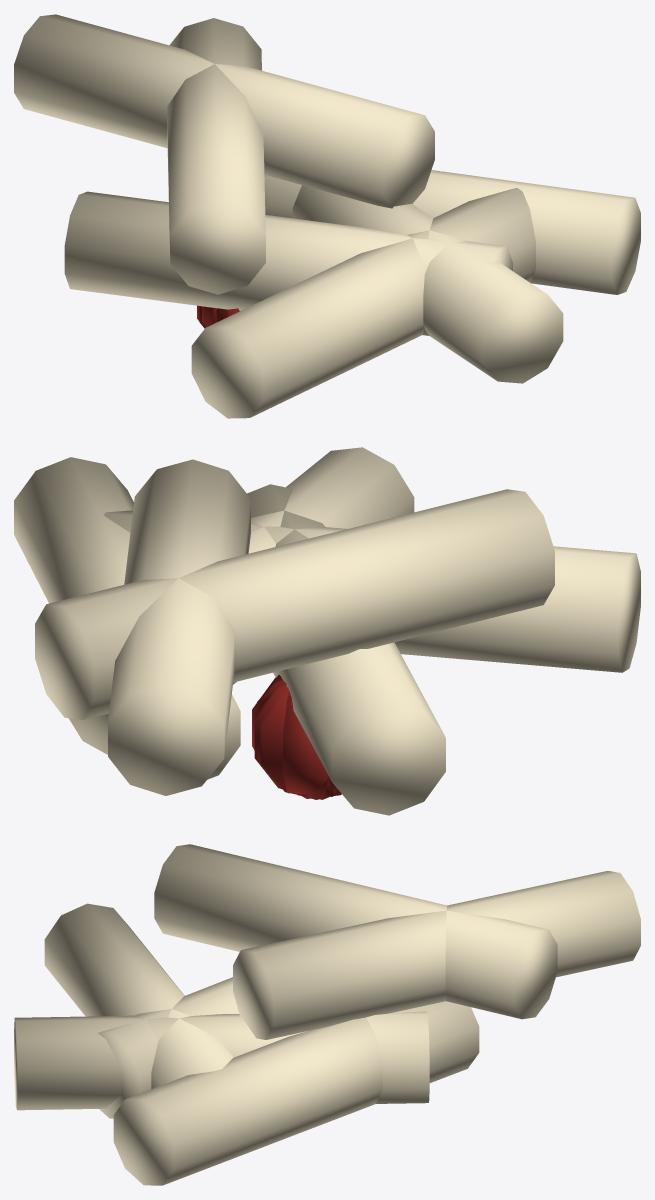
Rendered from scroll_pile.glb.
3 views of the same model, one above another, from view 1: azimuth 30°, elevation 25°; view 2: azimuth 150°, elevation 25°; view 3: azimuth 270°, elevation 25° (orthographic). The views are drawn at different scales.
Parts seen in each view (by area): view 1: scroll_pile; view 2: scroll_pile; view 3: scroll_pile.
Part boxes in pixels (box(x1,y1,x2,y2)): scroll_pile: box(14, 14, 640, 418); scroll_pile: box(14, 447, 640, 815); scroll_pile: box(14, 844, 640, 1185).
Size of the model in its own units: 0.8693 by 0.385 by 1.06.
